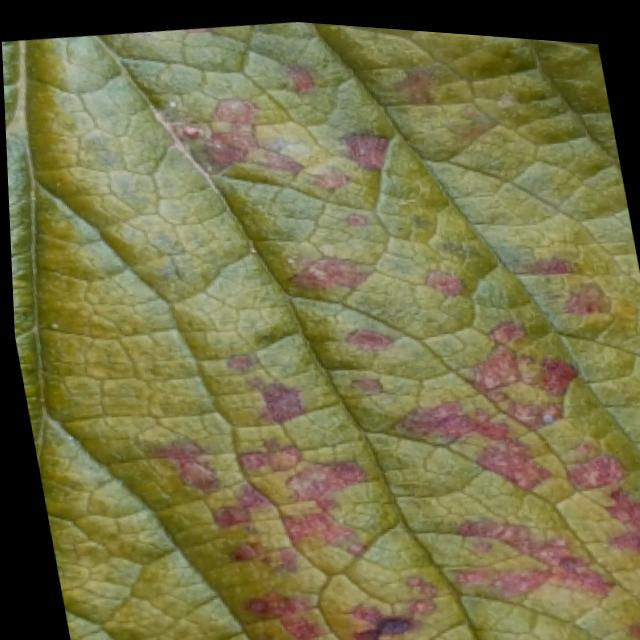Angular Leafspot: (14, 17, 640, 640)
